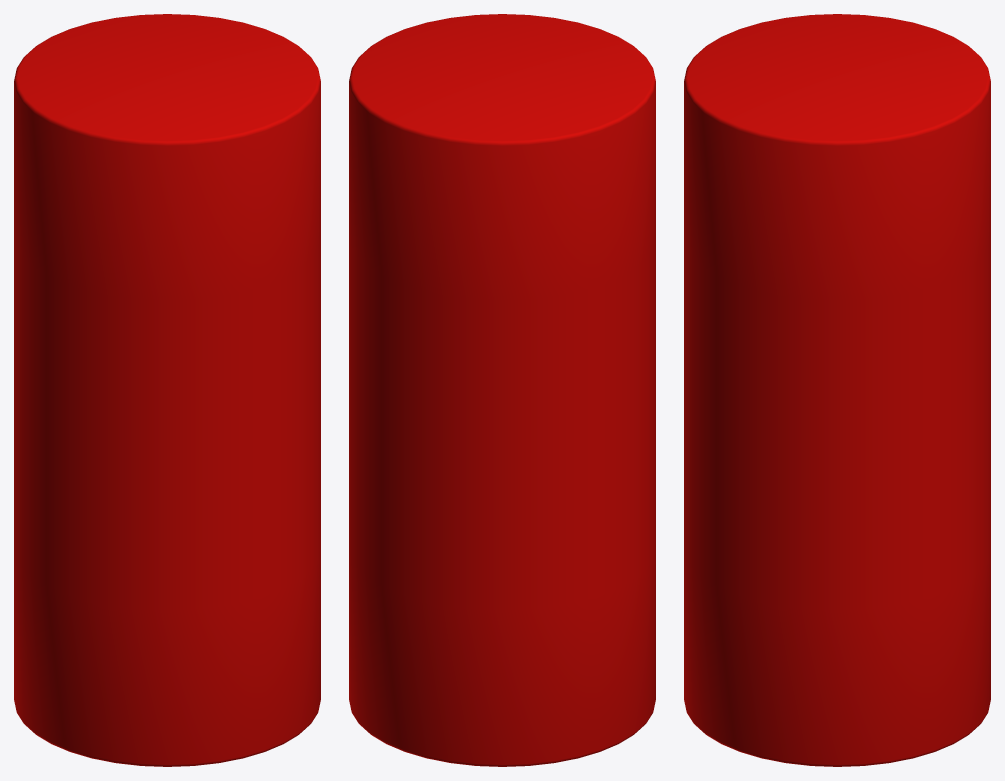
Rendered from Cyliner Mat.fbx.
3 views of the same model, side by side, from view 1: azimuth 30°, elevation 25°; view 2: azimuth 150°, elevation 25°; view 3: azimuth 270°, elevation 25° (orthographic).
Parts seen in each view (by area): view 1: Cylinder; view 2: Cylinder; view 3: Cylinder.
Boxes of the visible parts, x1,y1,x2,y2 form: Cylinder: (14, 14, 320, 766); Cylinder: (349, 14, 655, 766); Cylinder: (684, 14, 990, 766).
Size of the model in its own units: 40 by 90 by 40.
